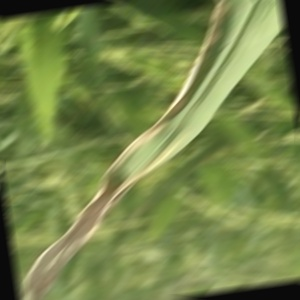Leaf_Blast: (105, 128, 193, 182)
